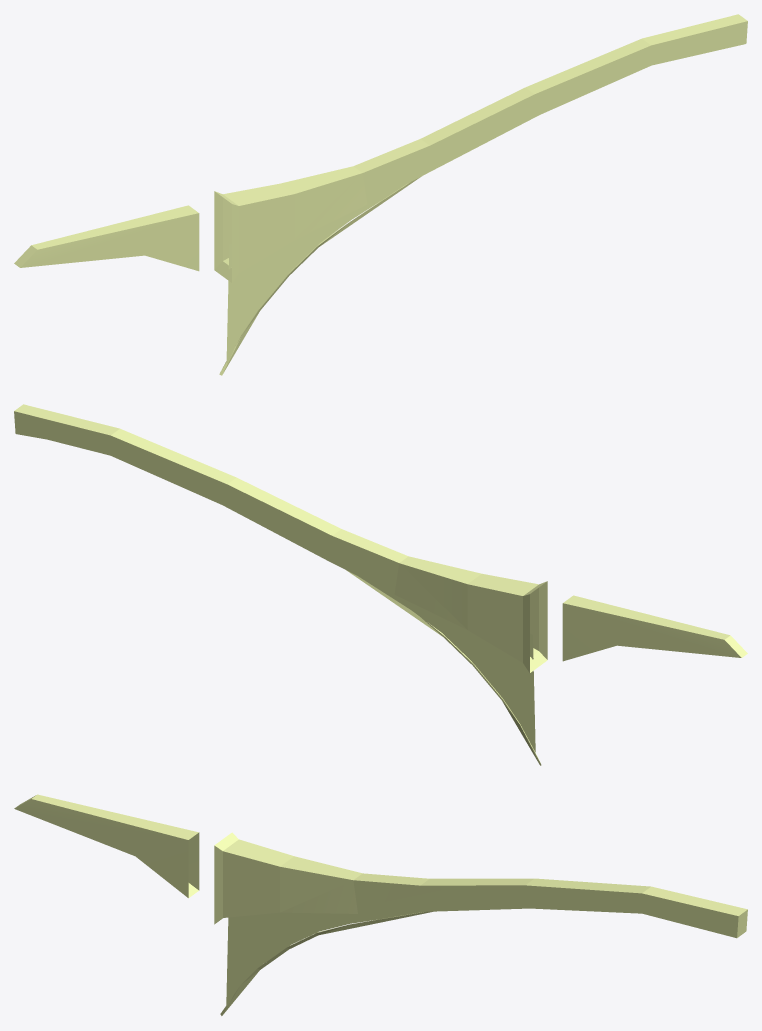
Rendered from lamppost01e.fbx.
The picture shows the model from 3 angles, top to bottom: view 1: azimuth 30°, elevation 25°; view 2: azimuth 150°, elevation 25°; view 3: azimuth 330°, elevation 25°; orthographic projection.
Visible parts, largest first — view 1: lamppost01e_reference; view 2: lamppost01e_reference; view 3: lamppost01e_reference.
Part boxes in pixels (left/top/right/bottom): lamppost01e_reference: left=14, top=14, right=747, bottom=375; lamppost01e_reference: left=14, top=404, right=747, bottom=765; lamppost01e_reference: left=14, top=794, right=747, bottom=1015.
Size of the model in its own units: 6543 by 1987 by 278.
